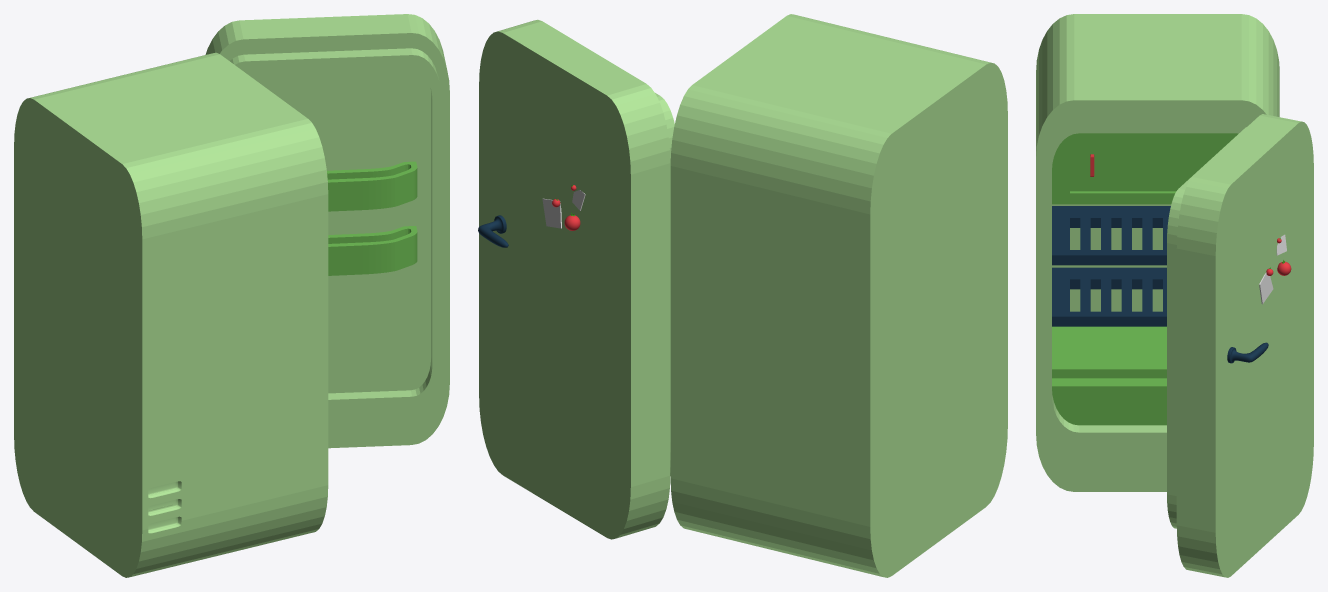
The model's file is refrigerator.fbx.
3 views of the same model, side by side, from view 1: azimuth 30°, elevation 25°; view 2: azimuth 150°, elevation 25°; view 3: azimuth 270°, elevation 25° (orthographic). The views are drawn at different scales.
Parts seen in each view (by area): view 1: body01, door, DoorShelf01, DoorShelf02; view 2: body01, door, body01.001; view 3: door, body01, body01.001, freezer, shelf03, shelf01, shelf02, box, FreezerLower, FreezerUpper, handle.
Part boxes in pixels (left/top/right/bottom): body01: left=14, top=52, right=328, bottom=577; door: left=205, top=14, right=449, bottom=448; DoorShelf01: left=327, top=161, right=417, bottom=211; DoorShelf02: left=328, top=226, right=417, bottom=275; body01: left=670, top=14, right=1007, bottom=577; door: left=479, top=19, right=674, bottom=539; body01.001: left=884, top=74, right=1004, bottom=545; door: left=1167, top=114, right=1313, bottom=577; body01: left=1036, top=14, right=1279, bottom=491; body01.001: left=1045, top=114, right=1254, bottom=453; freezer: left=1052, top=137, right=1233, bottom=198; shelf03: left=1052, top=326, right=1166, bottom=378; shelf01: left=1052, top=206, right=1170, bottom=265; shelf02: left=1052, top=267, right=1166, bottom=326; box: left=1052, top=378, right=1166, bottom=425; FreezerLower: left=1052, top=198, right=1172, bottom=204; FreezerUpper: left=1067, top=133, right=1238, bottom=137; handle: left=1227, top=342, right=1268, bottom=363.
Size of the model in its own units: 667 by 660 by 424.
